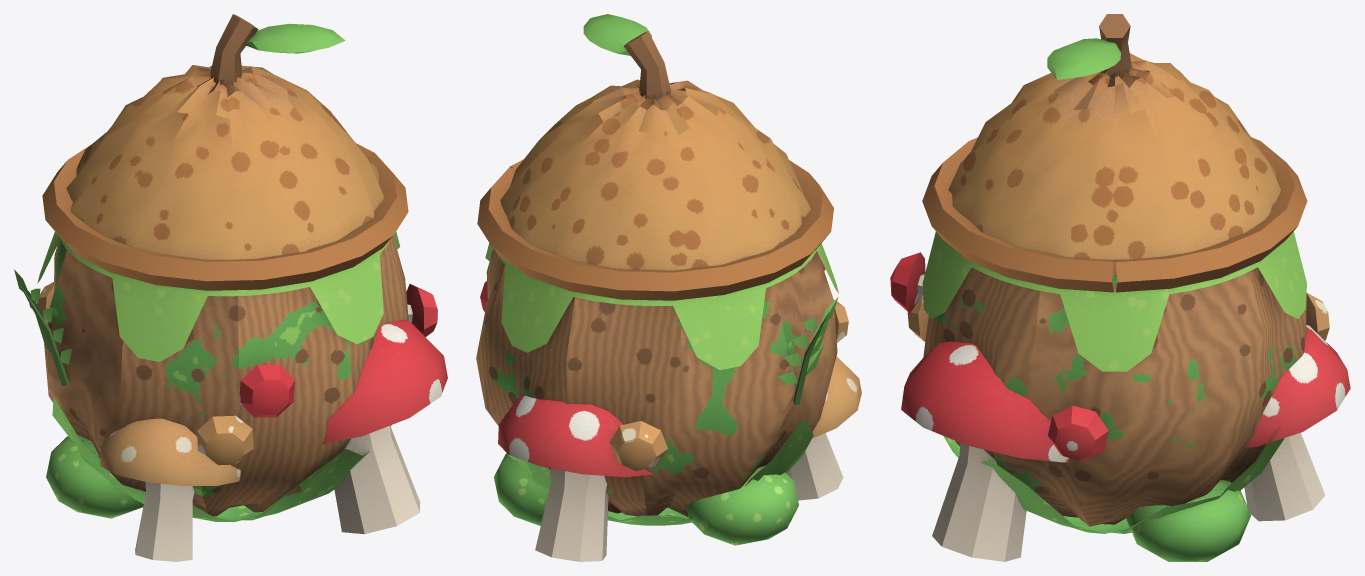
The model's file is egg_forest.fbx.
3 views of the same model, side by side, from view 1: azimuth 30°, elevation 25°; view 2: azimuth 150°, elevation 25°; view 3: azimuth 270°, elevation 25° (orthographic). The views are drawn at different scales.
Visible parts, largest first — view 1: egg_forest; view 2: egg_forest; view 3: egg_forest.
Part boxes in pixels (left/top/right/bottom): egg_forest: left=14, top=14, right=447, bottom=561; egg_forest: left=476, top=14, right=861, bottom=561; egg_forest: left=890, top=14, right=1350, bottom=561.
Bounding box in the file's own units: 266 × 322 × 262.
1 material, 1 textured.
